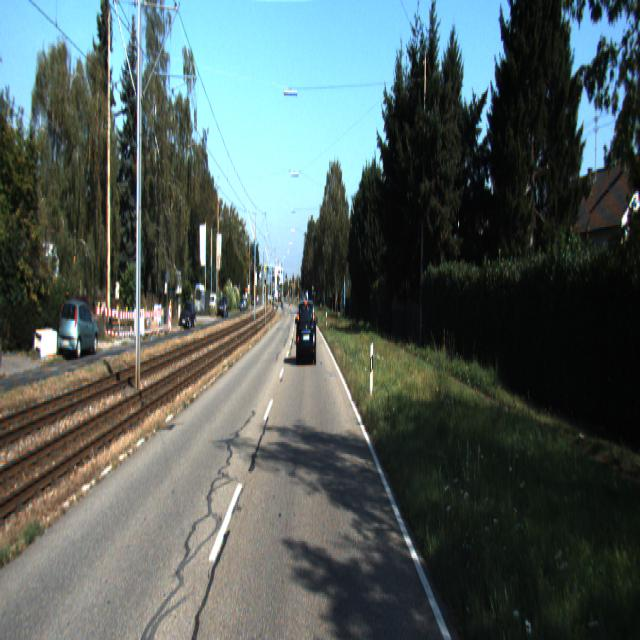Car: (58, 301, 100, 363), (296, 299, 316, 365), (180, 301, 197, 330)
